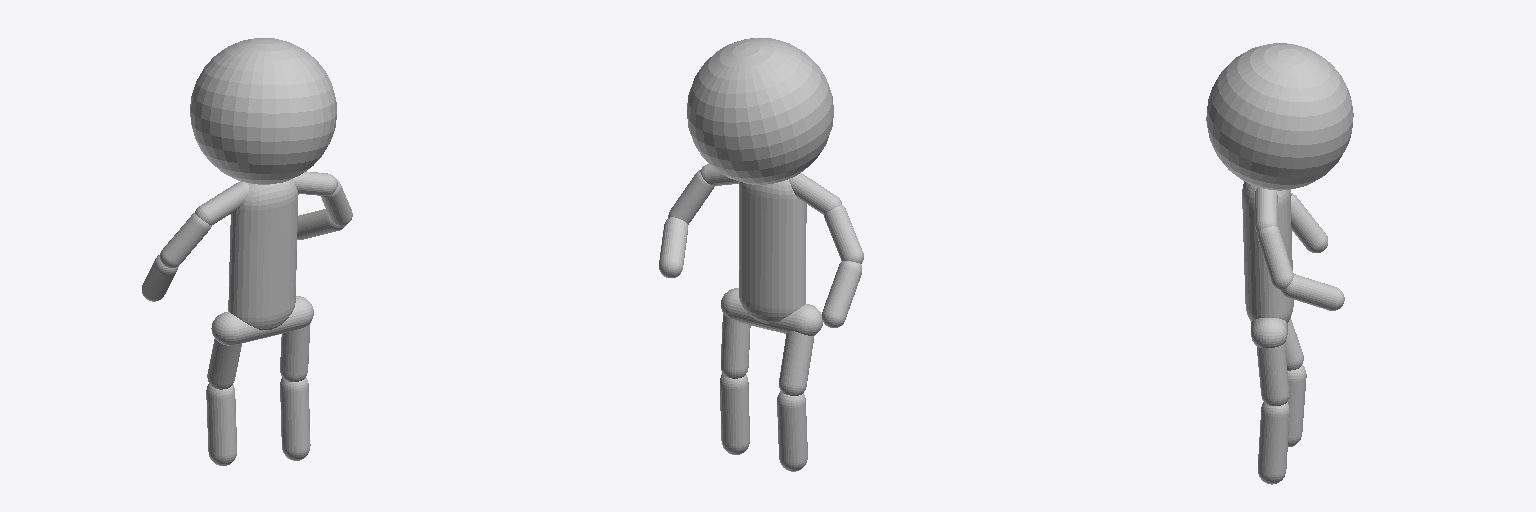
Rendered from Stickman_000038.obj.
3 views of the same model, side by side, from view 1: azimuth 30°, elevation 25°; view 2: azimuth 150°, elevation 25°; view 3: azimuth 270°, elevation 25° (orthographic).
Parts seen in each view (by area): view 1: Head_Sphere.001, Body_Roundcube.002, LowerLegLeft_Roundcube.013, LowerLegRight_Roundcube.011, Hip_Roundcube.005, UpperLegLeft_Roundcube.012, UpperArmRight_Roundcube.015, UpperLegRight_Roundcube.010, ShoulderRight_Roundcube.014, LowerArmRight_Roundcube.016, LowerArmLeft_Roundcube.019, ShoulderLeft_Roundcube.017 (+1 smaller); view 2: Head_Sphere.001, Body_Roundcube.002, LowerLegLeft_Roundcube.013, LowerLegRight_Roundcube.011, Hip_Roundcube.005, UpperLegRight_Roundcube.010, LowerArmRight_Roundcube.016, UpperLegLeft_Roundcube.012, LowerArmLeft_Roundcube.019, UpperArmRight_Roundcube.015, UpperArmLeft_Roundcube.018, ShoulderRight_Roundcube.014; view 3: Head_Sphere.001, Body_Roundcube.002, LowerLegLeft_Roundcube.013, UpperLegLeft_Roundcube.012, UpperArmLeft_Roundcube.018, LowerArmLeft_Roundcube.019, LowerArmRight_Roundcube.016, LowerLegRight_Roundcube.011, Hip_Roundcube.005, ShoulderLeft_Roundcube.017, UpperLegRight_Roundcube.010.
Part boxes in pixels (x1,y1,x2,y2): Head_Sphere.001: (190,38,336,184); Body_Roundcube.002: (228,180,298,329); LowerLegLeft_Roundcube.013: (280,377,310,460); LowerLegRight_Roundcube.011: (206,384,236,465); Hip_Roundcube.005: (211,296,313,345); UpperLegLeft_Roundcube.012: (280,324,309,381); UpperArmRight_Roundcube.015: (160,213,211,267); UpperLegRight_Roundcube.010: (207,339,241,389); ShoulderRight_Roundcube.014: (195,181,248,224); LowerArmRight_Roundcube.016: (142,255,178,301); LowerArmLeft_Roundcube.019: (297,209,345,239); ShoulderLeft_Roundcube.017: (291,171,337,195); Head_Sphere.001: (687,38,833,184); Body_Roundcube.002: (739,179,806,323); LowerLegLeft_Roundcube.013: (720,373,749,454); LowerLegRight_Roundcube.011: (777,391,807,471); Hip_Roundcube.005: (721,288,822,335); UpperLegRight_Roundcube.010: (779,331,814,395); LowerArmRight_Roundcube.016: (822,261,861,327); UpperLegLeft_Roundcube.012: (721,314,750,378); LowerArmLeft_Roundcube.019: (659,217,687,277); UpperArmRight_Roundcube.015: (824,205,863,263); UpperArmLeft_Roundcube.018: (668,170,714,224); ShoulderRight_Roundcube.014: (789,173,841,214); Head_Sphere.001: (1206,43,1353,190); Body_Roundcube.002: (1242,181,1293,322); LowerLegLeft_Roundcube.013: (1258,402,1289,484); UpperLegLeft_Roundcube.012: (1257,343,1288,405); UpperArmLeft_Roundcube.018: (1257,226,1293,289); LowerArmLeft_Roundcube.019: (1281,274,1344,310); LowerArmRight_Roundcube.016: (1291,193,1327,252); LowerLegRight_Roundcube.011: (1287,365,1306,446); Hip_Roundcube.005: (1251,318,1287,348); ShoulderLeft_Roundcube.017: (1255,187,1277,231); UpperLegRight_Roundcube.010: (1285,318,1303,370).
Bounding box in the file's own units: 5.49 × 11.39 × 3.63.